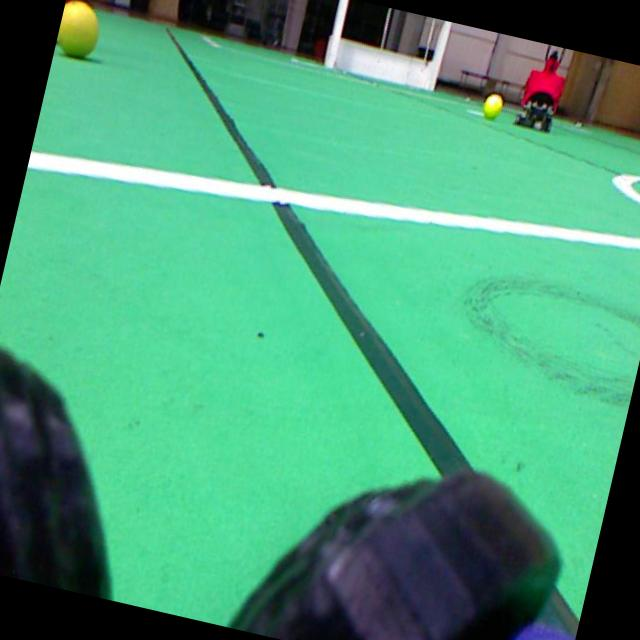ball: (56, 0, 98, 56), (482, 93, 502, 118)
goal: (323, 0, 348, 67), (427, 20, 450, 90)
